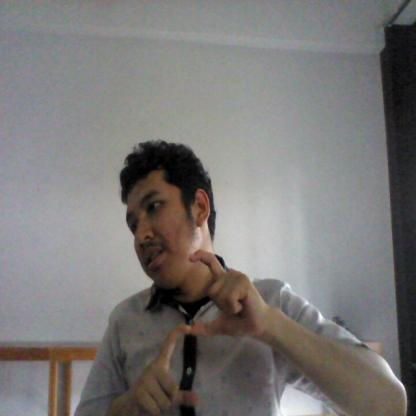S: (130, 242, 267, 416)
